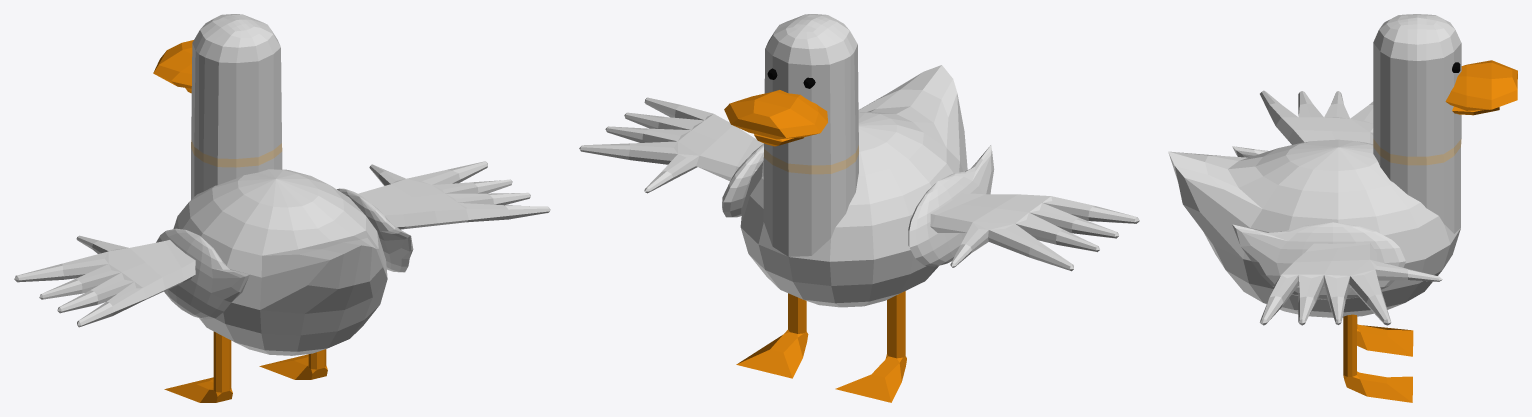
File: Duck.fbx
3 views of the same model, side by side, from view 1: azimuth 30°, elevation 25°; view 2: azimuth 150°, elevation 25°; view 3: azimuth 270°, elevation 25° (orthographic). The views are drawn at different scales.
Parts seen in each view (by area): view 1: Body, Arms/WingsOpen, Head_Neck.001, WingsClosed, Legs, Upper_Bic; view 2: Body, Head_Neck.001, Arms/WingsOpen, WingsClosed, Legs, Upper_Bic; view 3: Body, Head_Neck.001, Arms/WingsOpen, WingsClosed, Legs, Upper_Bic.
Boxes of the visible parts, x1,y1,x2,y2 form: Body: (173,169,387,355); Arms/WingsOpen: (14,161,550,327); Head_Neck.001: (191,14,282,199); WingsClosed: (156,188,413,319); Legs: (164,331,327,402); Upper_Bic: (153,40,193,88); Body: (740,65,967,307); Head_Neck.001: (763,14,858,256); Arms/WingsOpen: (579,97,1139,271); WingsClosed: (722,143,994,266); Legs: (736,291,906,402); Upper_Bic: (724,90,827,139); Body: (1168,139,1460,317); Head_Neck.001: (1373,14,1461,233); Arms/WingsOpen: (1259,90,1442,325); WingsClosed: (1232,146,1405,299); Legs: (1343,314,1413,402); Upper_Bic: (1445,60,1517,110).
Bounding box in the file's own units: 625 × 441 × 400.
